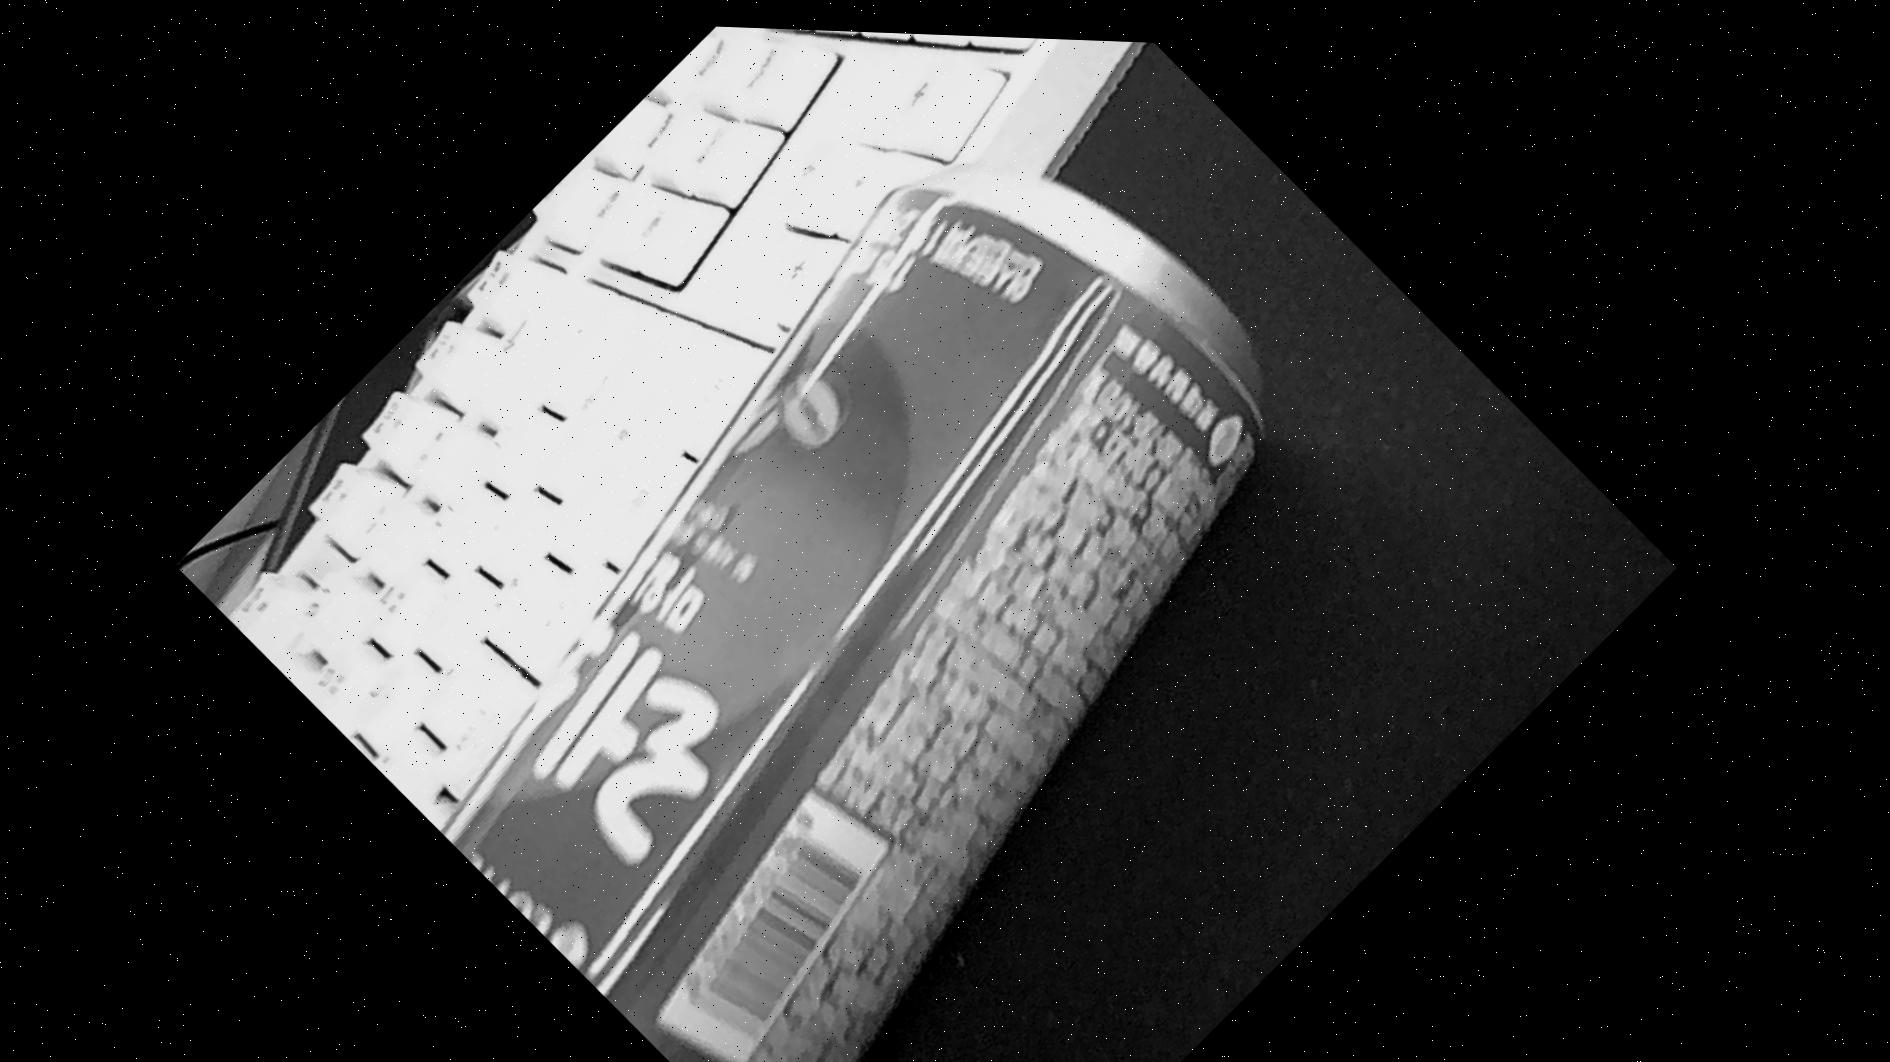letsbe: (337, 49, 1447, 1062)
